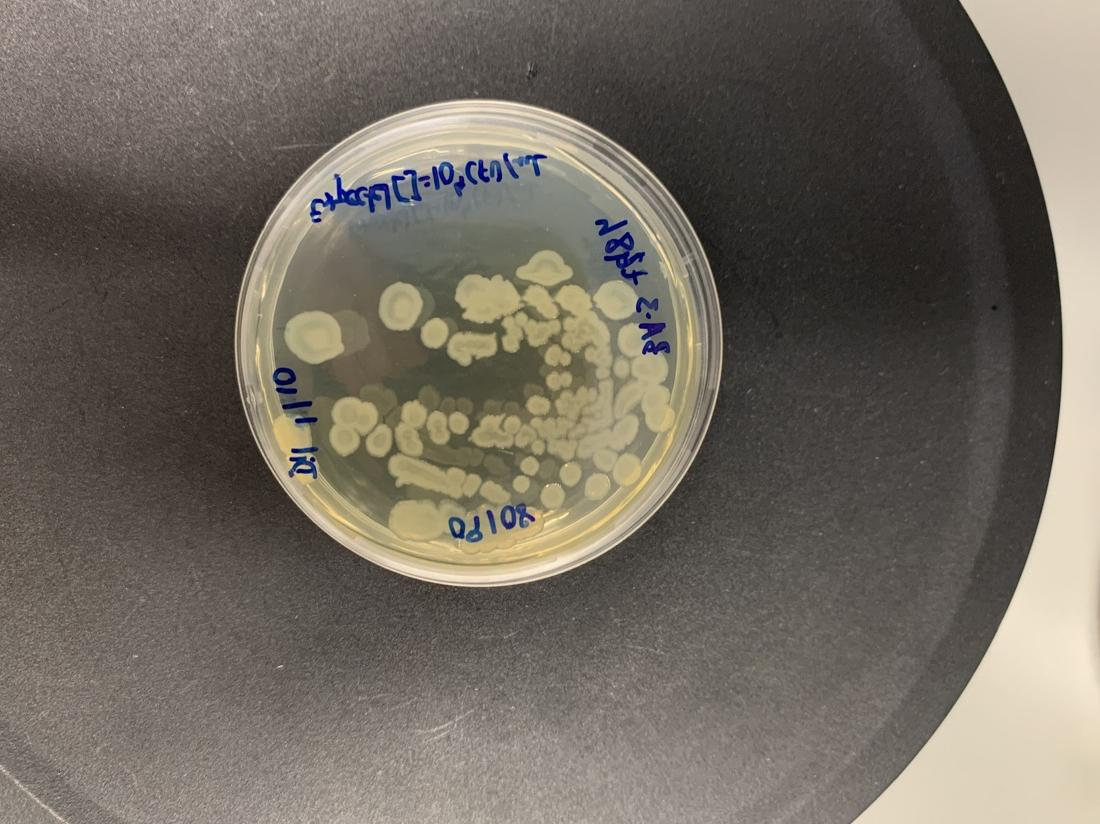colony: (283, 307, 344, 367), (512, 245, 576, 285), (378, 280, 423, 331), (592, 277, 644, 321), (446, 329, 500, 365), (419, 316, 449, 351), (364, 423, 392, 460), (537, 482, 568, 511), (583, 471, 612, 501), (401, 398, 428, 428), (542, 342, 573, 367), (558, 460, 583, 487), (611, 354, 634, 380), (526, 392, 550, 416), (448, 410, 470, 434), (519, 456, 541, 477), (502, 413, 522, 435), (500, 333, 520, 354), (512, 474, 531, 494), (543, 370, 561, 389), (560, 370, 574, 388)
